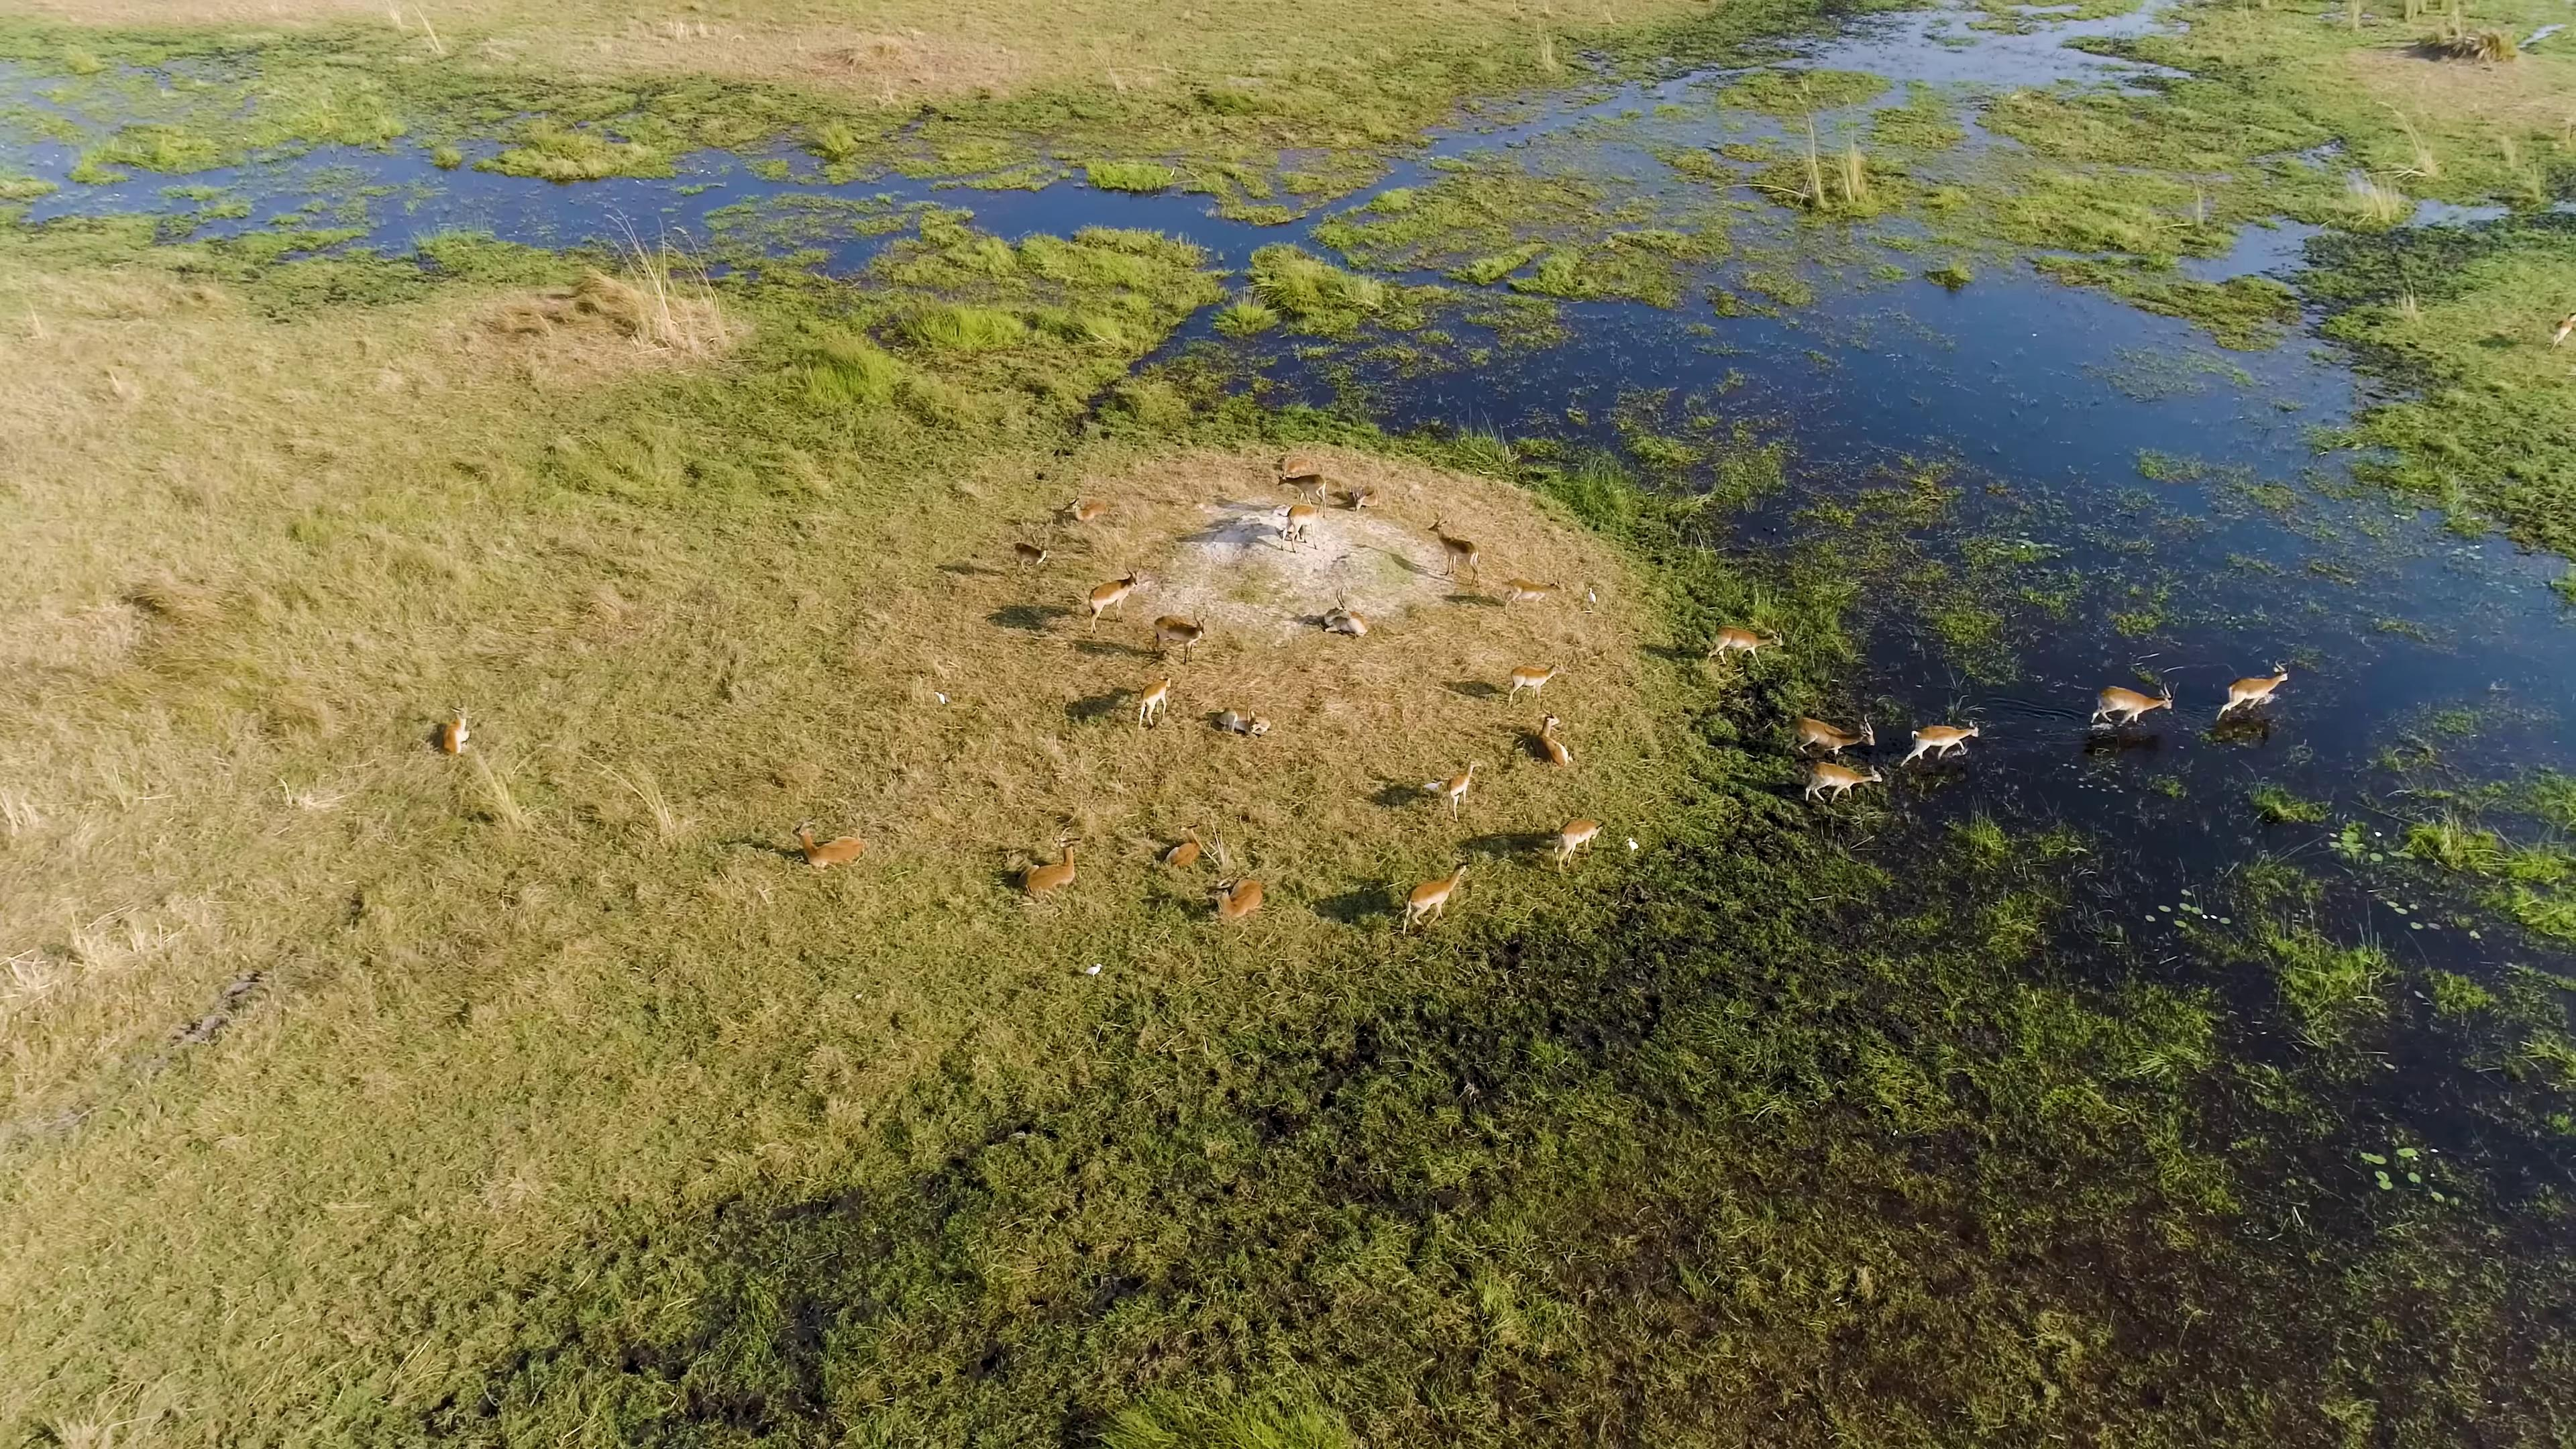Deer: (777, 805, 876, 881), (2208, 651, 2304, 727), (2086, 667, 2183, 736), (1780, 699, 1879, 764), (1401, 849, 1479, 931), (1001, 828, 1083, 906), (1414, 515, 1493, 589), (1077, 552, 1150, 632), (1891, 713, 1985, 768), (423, 685, 478, 777), (1787, 755, 1884, 807), (1311, 575, 1375, 648), (1143, 605, 1212, 671), (1545, 812, 1615, 872), (1706, 623, 1792, 671), (1495, 570, 1569, 625), (1518, 702, 1575, 771), (1506, 653, 1569, 711), (1274, 465, 1336, 524), (1437, 754, 1490, 821), (1203, 876, 1279, 922), (1154, 821, 1212, 876), (1277, 495, 1334, 550), (1210, 697, 1277, 741), (1134, 665, 1177, 729), (1008, 524, 1056, 579), (1062, 481, 1113, 525), (1339, 479, 1396, 517)
